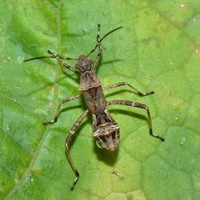insect: (23, 24, 164, 189)
